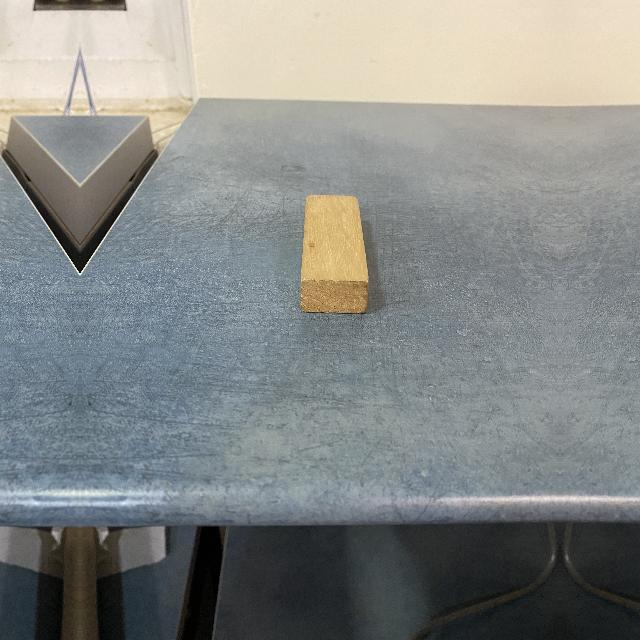jenga: (301, 193, 370, 313)
